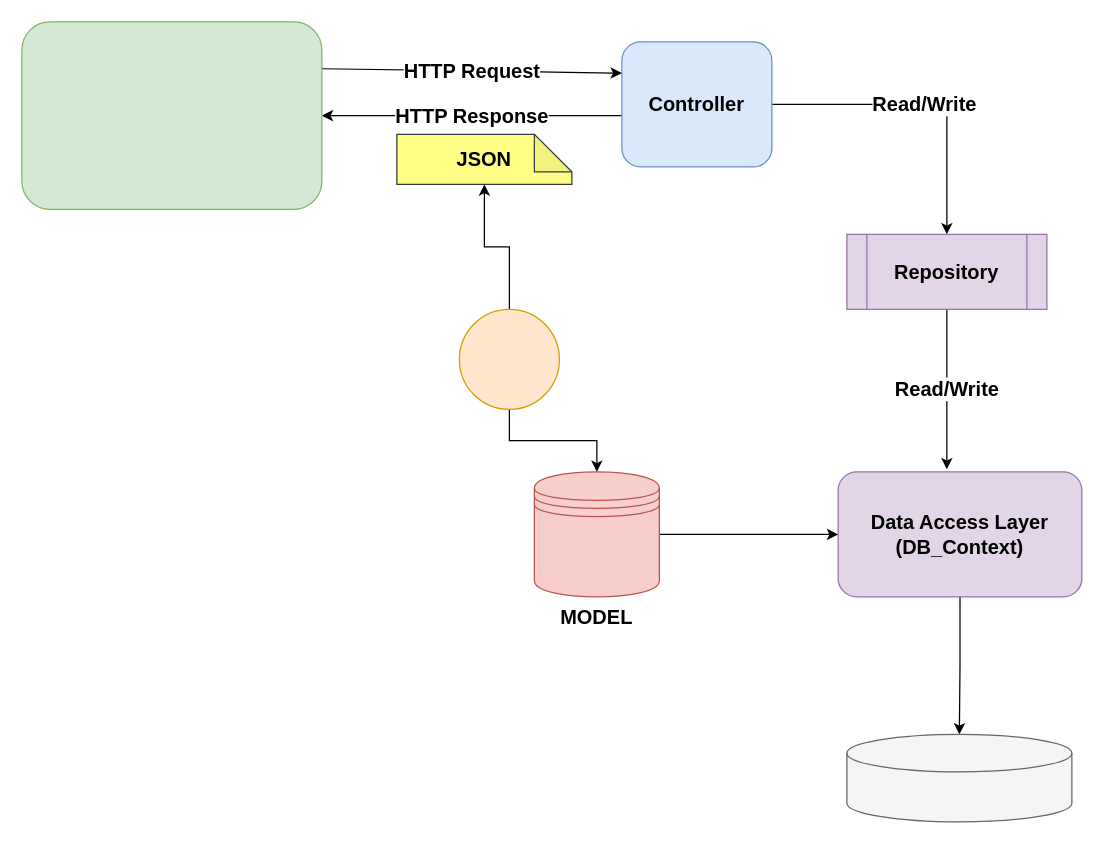
This 1104x844 diagram has some shape labels left out. Here are the shapes that lost their labels. From the top down, the box of each, then its label:
(21, 21, 322, 209): API CLient (Postman in our case)
(458, 308, 559, 409): DTO
(846, 733, 1072, 822): SQL Server DB
